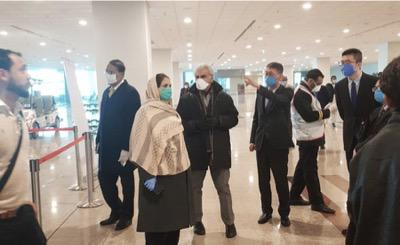with_mask: (340, 57, 356, 77), (373, 84, 387, 106), (194, 73, 210, 91), (263, 69, 278, 87), (105, 67, 119, 85), (159, 82, 172, 100), (310, 80, 324, 93)
without_mask: (10, 61, 32, 97)
